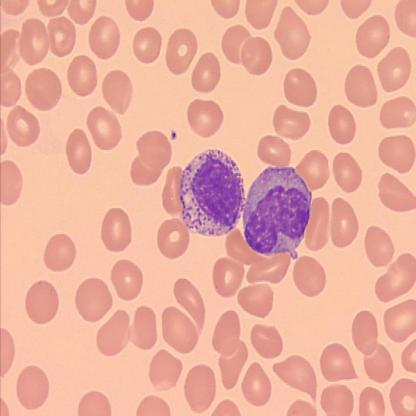Myelocyte: (248, 167, 311, 256), (180, 147, 243, 235)
